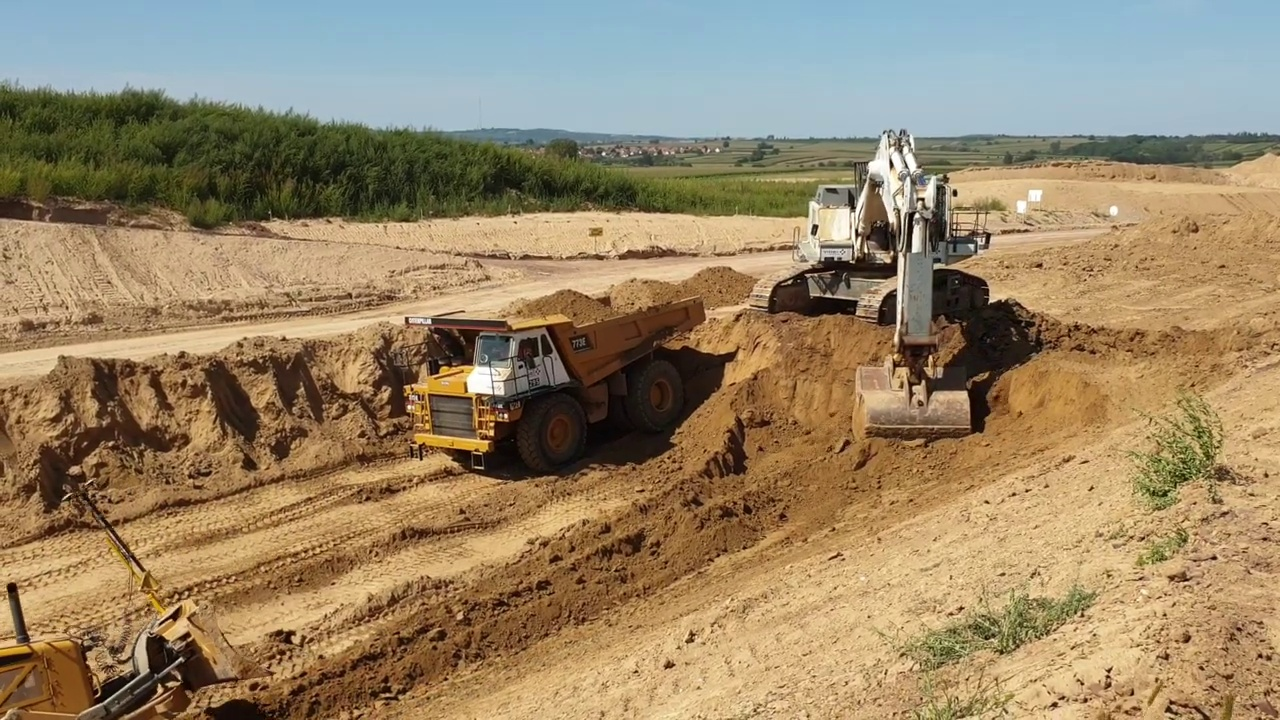bulldozer: (2, 458, 279, 720)
excavator: (749, 124, 1002, 447)
truck: (401, 292, 709, 481)
